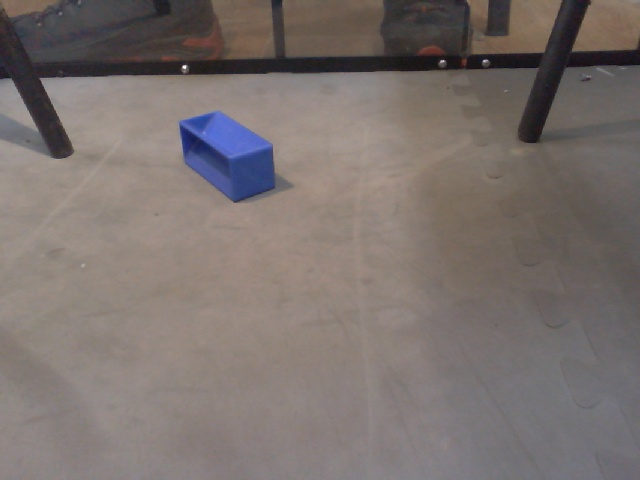BlueSample: (175, 108, 281, 203)
